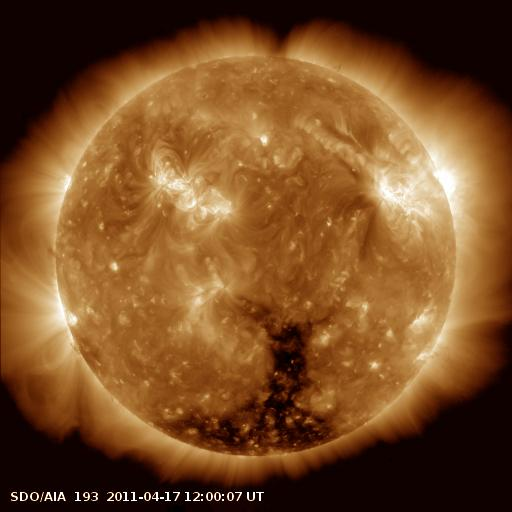coronal_hole: (160, 309, 343, 461)
